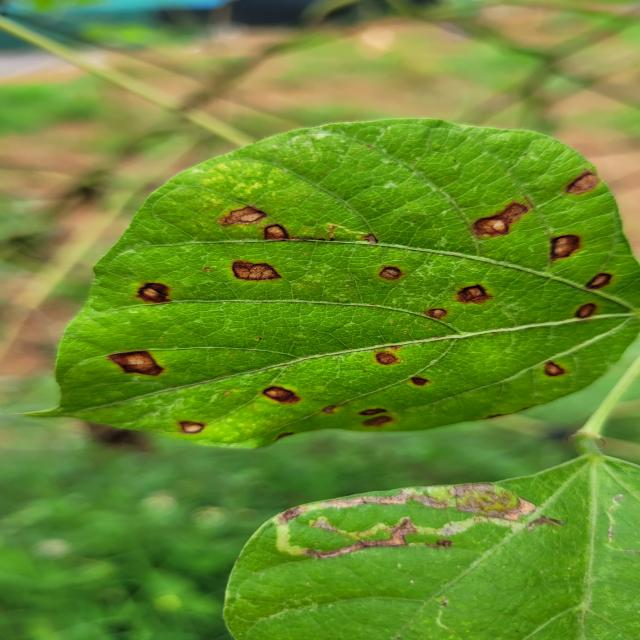Dolicos bean_cercospora leaf spot: (45, 119, 640, 450)
